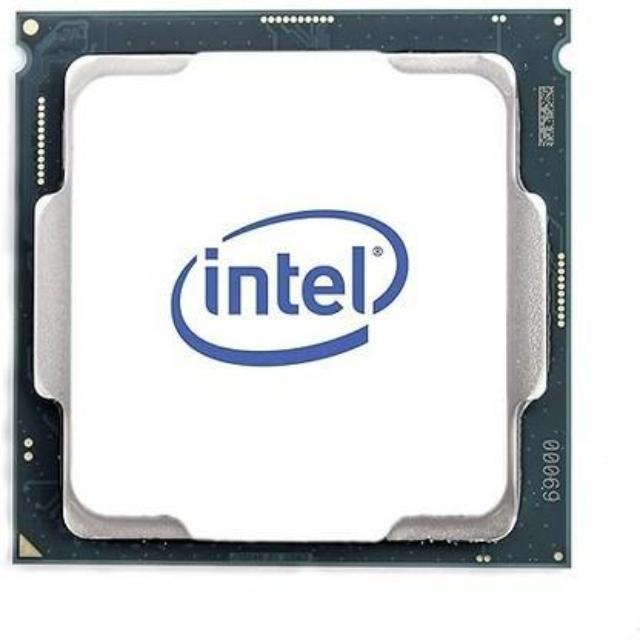CPU: (14, 10, 569, 559)
